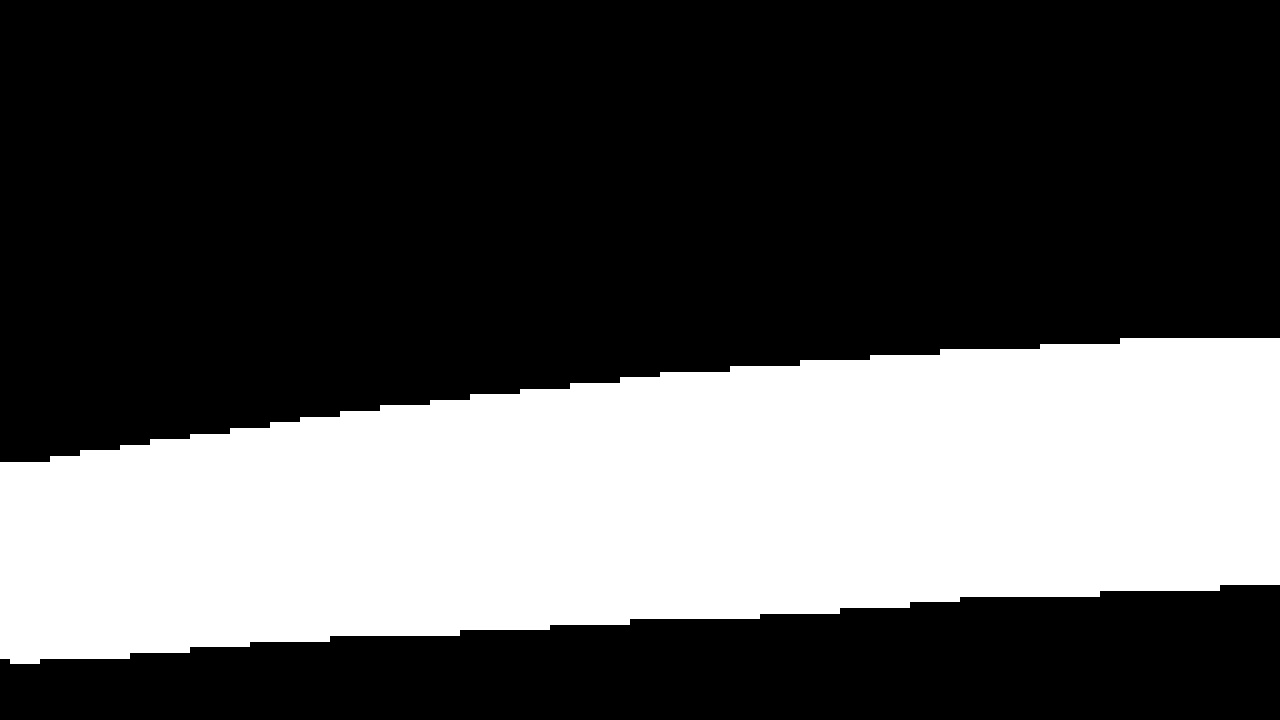Turbine: (3, 317, 1271, 674)
